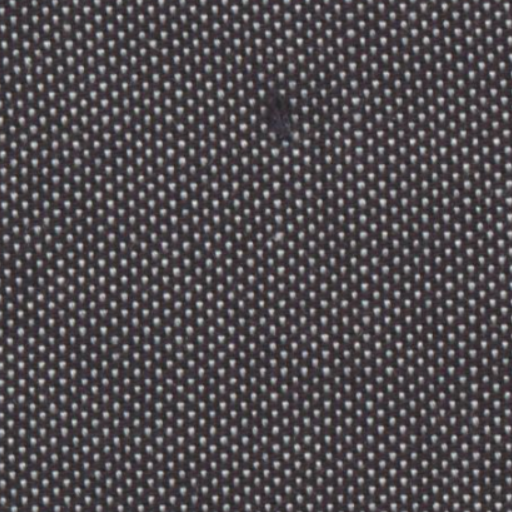MianQiu: (249, 74, 308, 144)
